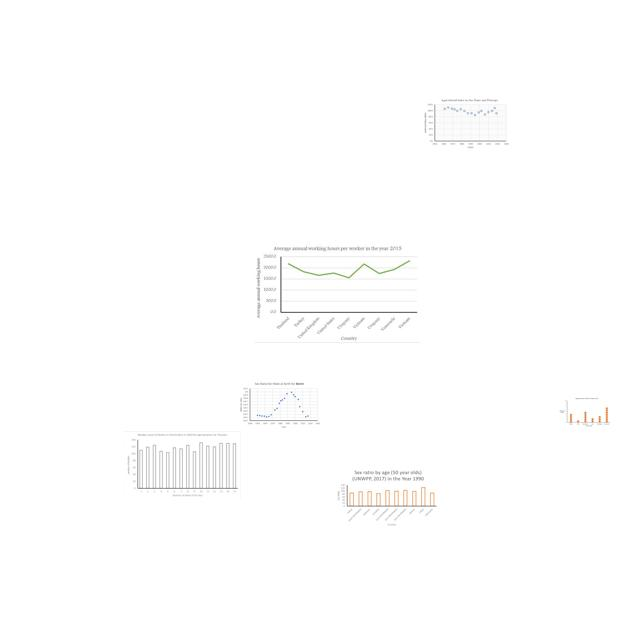Graph: (254, 244, 420, 343), (124, 431, 241, 500), (334, 468, 437, 527), (422, 97, 510, 149), (237, 380, 322, 431), (558, 397, 611, 428)
